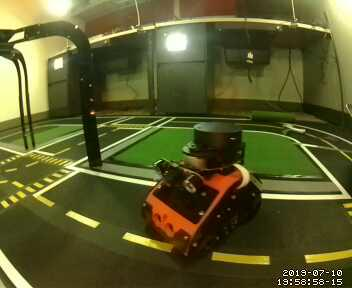pheeno: (140, 115, 265, 265)
